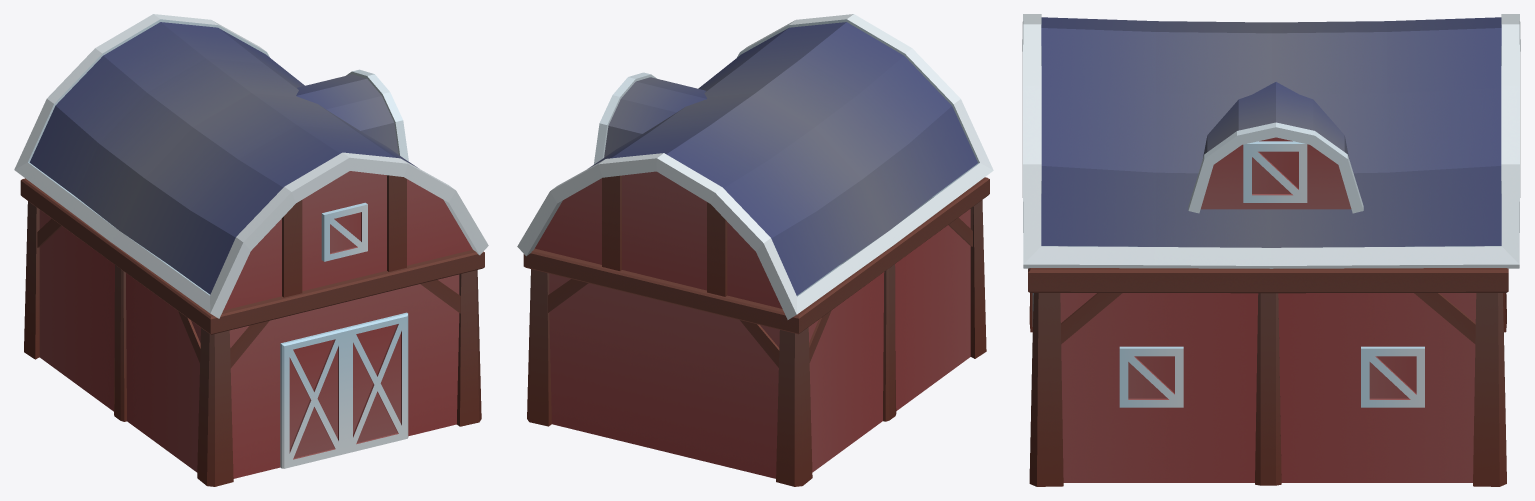
Rendered from barn.fbx.
3 views of the same model, side by side, from view 1: azimuth 30°, elevation 25°; view 2: azimuth 150°, elevation 25°; view 3: azimuth 270°, elevation 25° (orthographic). The views are drawn at different scales.
Visible parts, largest first — view 1: Cube.009; view 2: Cube.009; view 3: Cube.009.
Boxes of the visible parts, box(x1,y1,x2,y2) form: Cube.009: box(14, 14, 488, 486); Cube.009: box(517, 14, 993, 486); Cube.009: box(1022, 14, 1520, 486).
Bounding box in the file's own units: 532 × 544 × 650.
